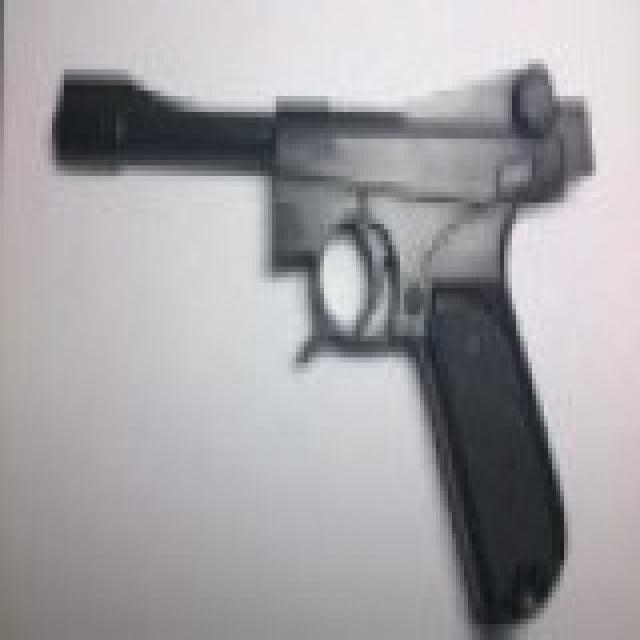Gun: (58, 39, 604, 605)
